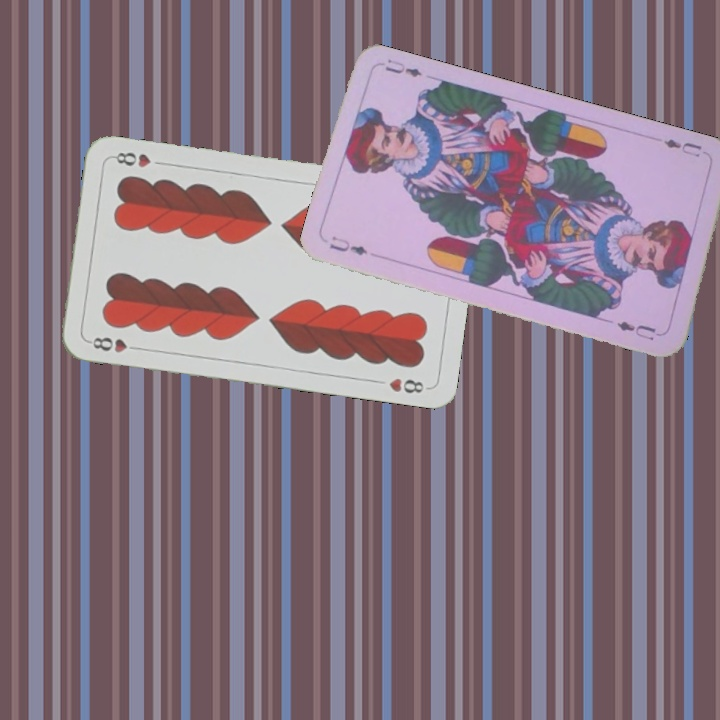EU: (325, 231, 370, 258), (659, 135, 704, 160)
H8: (84, 333, 143, 355)
